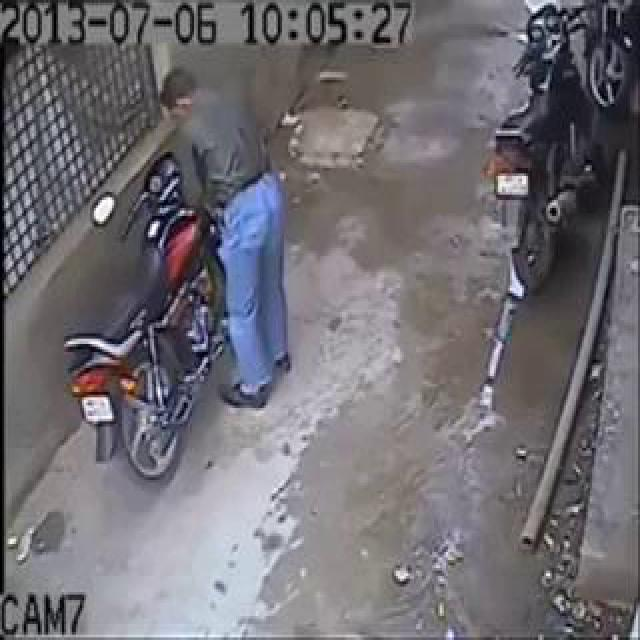stealing: (126, 59, 322, 493)
